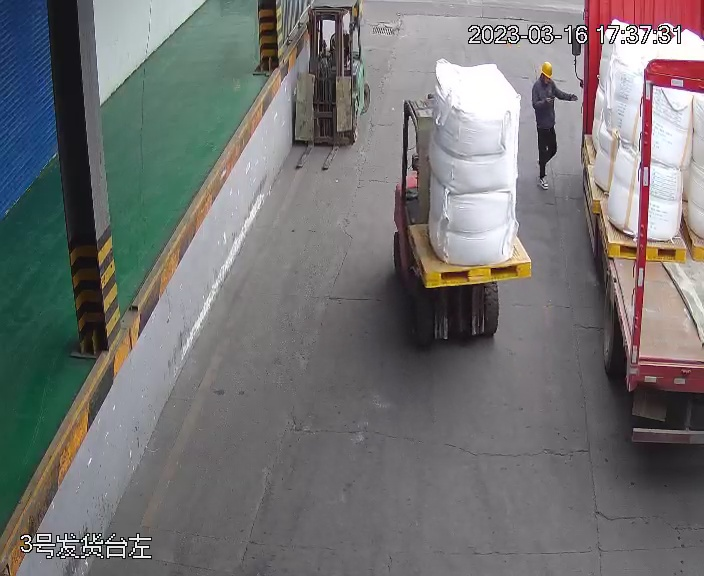head: (532, 61, 561, 97)
helmet: (540, 61, 555, 78)
people: (528, 60, 577, 186)
truck: (578, 1, 702, 451)
